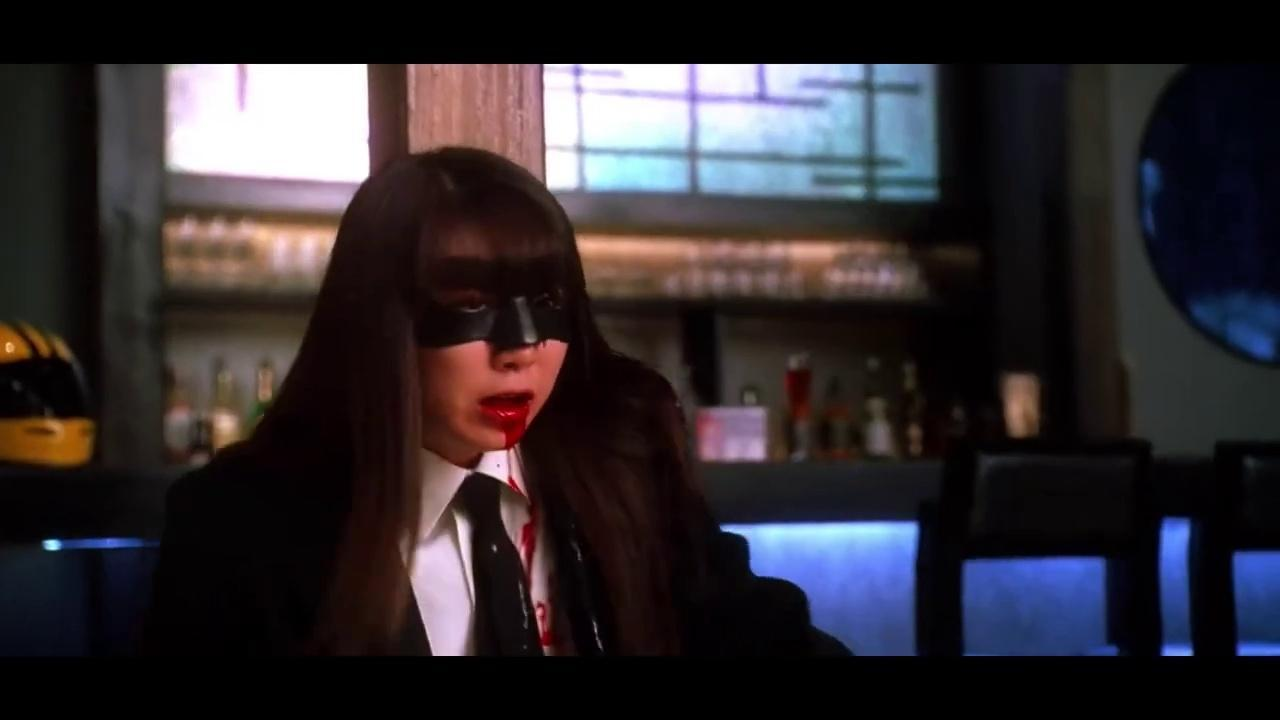Fire: (479, 392, 577, 656)
